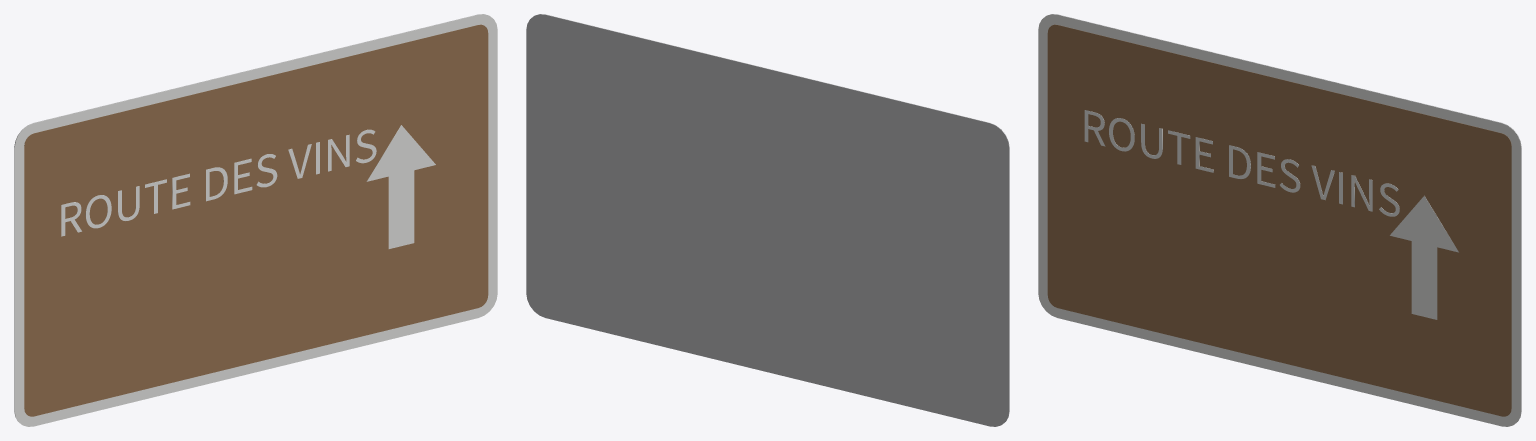
The picture shows the model from 3 angles, left to right: view 1: azimuth 30°, elevation 25°; view 2: azimuth 150°, elevation 25°; view 3: azimuth 330°, elevation 25°; orthographic projection.
Visible parts, largest first — view 1: H22_r01, H22_r00, H22_p03, H22_txt02, H22_dos; view 2: H22_dos; view 3: H22_r01, H22_r00, H22_p03, H22_txt02, H22_dos.
Part boxes in pixels (left/top/right/bottom): H22_r01: left=24, top=24, right=488, bottom=416; H22_r00: left=14, top=14, right=497, bottom=426; H22_p03: left=366, top=125, right=435, bottom=248; H22_txt02: left=61, top=129, right=376, bottom=236; H22_dos: left=14, top=14, right=487, bottom=420; H22_dos: left=526, top=14, right=1009, bottom=426; H22_r01: left=1047, top=24, right=1511, bottom=416; H22_r00: left=1038, top=14, right=1521, bottom=426; H22_p03: left=1390, top=195, right=1458, bottom=319; H22_txt02: left=1084, top=110, right=1399, bottom=216; H22_dos: left=1048, top=14, right=1521, bottom=420.
Bounding box in the file's own units: 1 × 0.6 × 0.0029.
